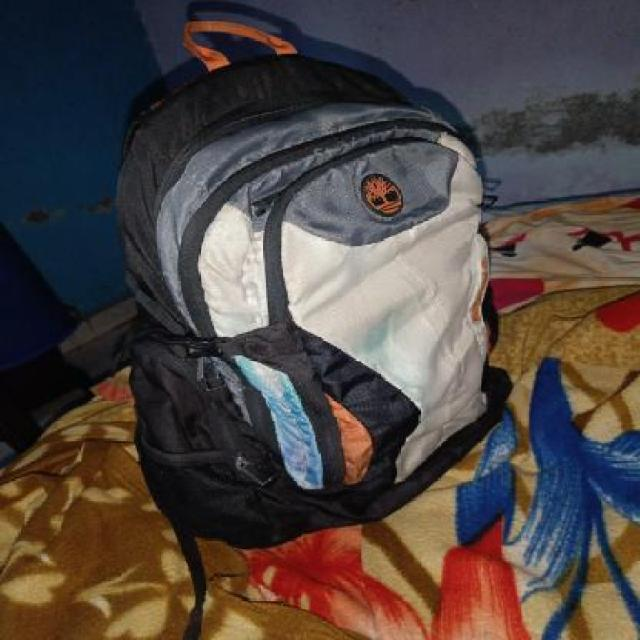backpack: (108, 16, 517, 556)
